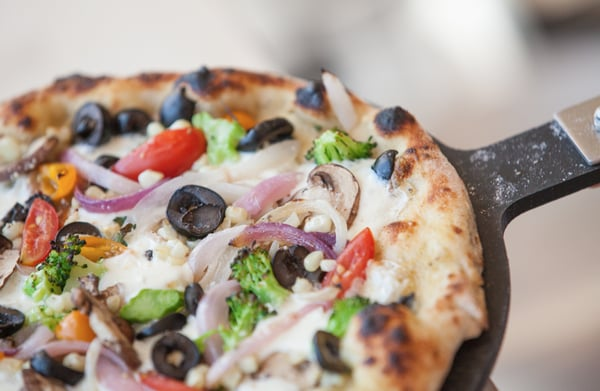curry: (221, 249, 293, 352), (228, 248, 292, 310), (306, 129, 378, 166), (119, 286, 188, 324)
